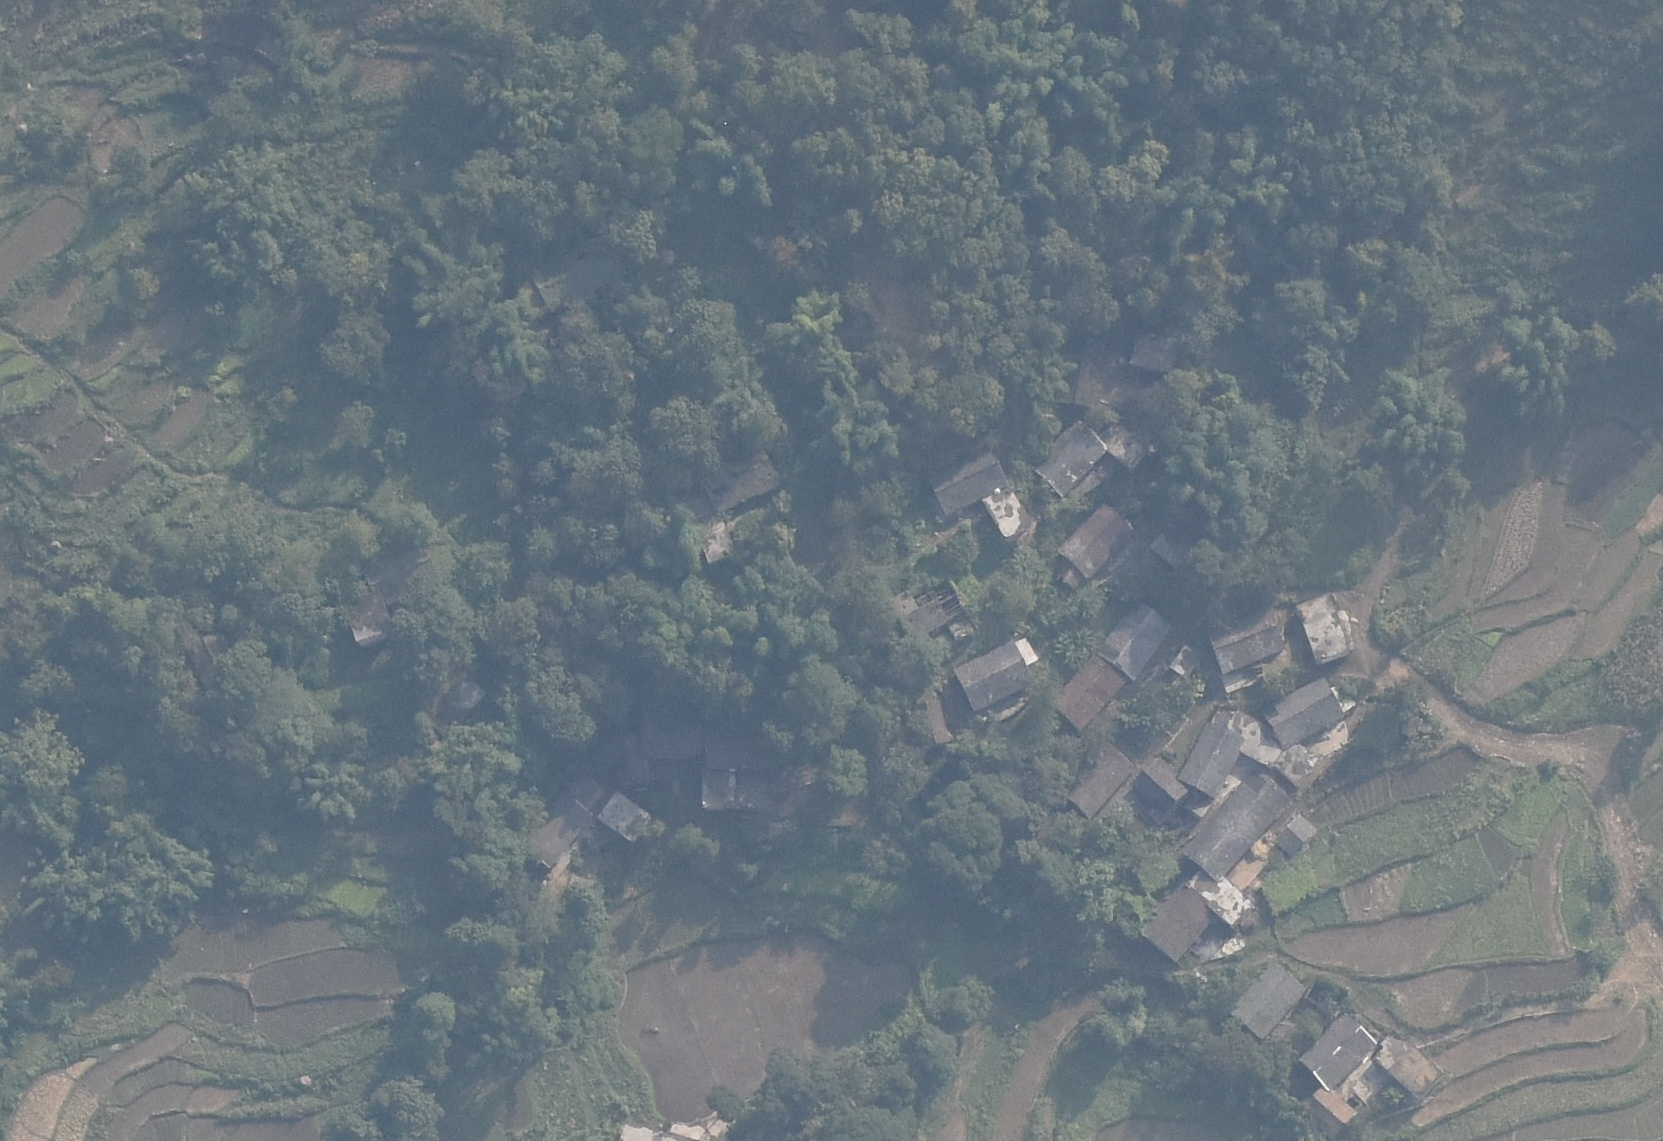building: (1184, 776, 1281, 876), (698, 717, 788, 822), (930, 456, 1030, 540), (1049, 506, 1141, 588), (1296, 1007, 1381, 1093), (1120, 883, 1212, 958), (1050, 651, 1126, 732), (533, 243, 621, 312), (1265, 682, 1351, 751), (1063, 741, 1139, 819), (1098, 603, 1174, 681), (959, 636, 1039, 710), (1232, 960, 1309, 1036), (526, 794, 593, 879), (700, 449, 783, 514), (881, 586, 984, 636), (1184, 714, 1246, 795), (1293, 590, 1358, 667), (1040, 421, 1105, 493), (176, 622, 243, 689), (1051, 331, 1107, 409), (1374, 1028, 1439, 1095), (1207, 621, 1287, 675), (1152, 524, 1223, 578), (1133, 759, 1189, 824), (598, 791, 654, 845), (343, 593, 392, 642), (1131, 326, 1180, 374), (1303, 1089, 1356, 1132), (1276, 814, 1324, 855), (701, 523, 738, 565)
